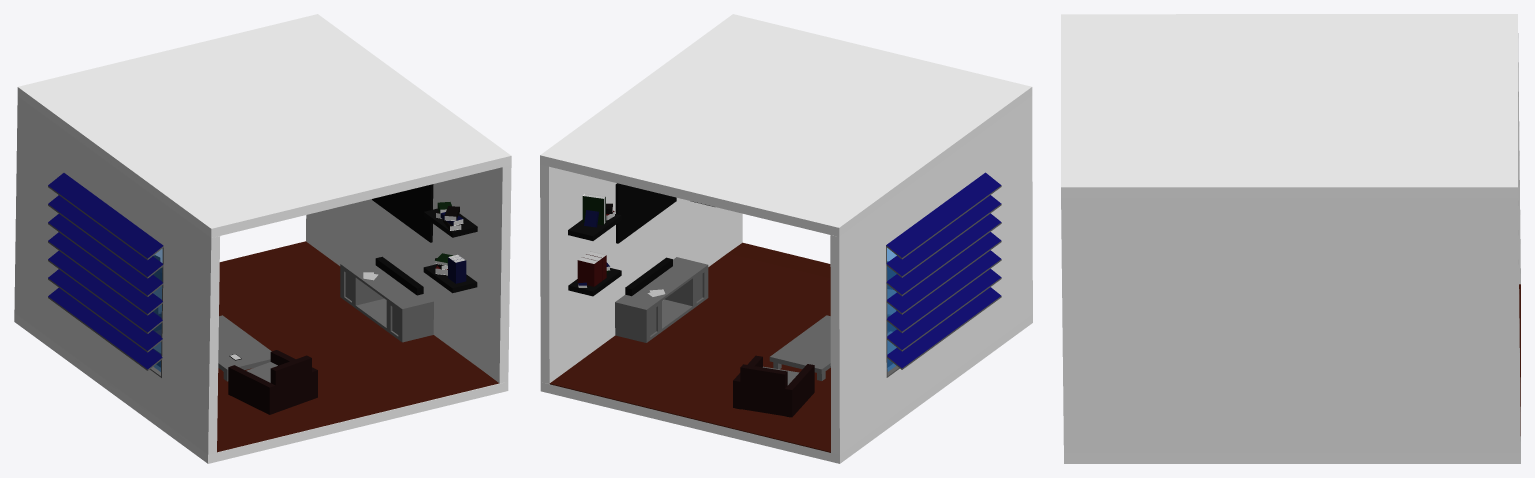
The model's file is pv louvers.glb.
The picture shows the model from 3 angles, left to right: view 1: azimuth 30°, elevation 25°; view 2: azimuth 150°, elevation 25°; view 3: azimuth 270°, elevation 25°; orthographic projection. The views are drawn at different scales.
Visible parts, largest first — view 1: object 194, Cube (×16), object 195, object 197, object 196; view 2: object 194, Cube (×17), object 195, object 197, object 196, object 192; view 3: object 197, object 194, object 196.
Part boxes in pixels (x1=…): object 194: x1=17, y1=14, x2=511, y2=237; Cube (×16): x1=48, y1=173, x2=498, y2=452; object 195: x1=14, y1=96, x2=220, y2=454; object 197: x1=306, y1=165, x2=511, y2=383; object 196: x1=14, y1=313, x2=508, y2=463; object 194: x1=540, y1=14, x2=1032, y2=236; Cube (×17): x1=549, y1=172, x2=1001, y2=452; object 195: x1=830, y1=96, x2=1032, y2=454; object 197: x1=540, y1=164, x2=742, y2=383; object 196: x1=540, y1=314, x2=1032, y2=463; object 192: x1=887, y1=248, x2=896, y2=371; object 197: x1=1061, y1=198, x2=1520, y2=452; object 194: x1=1061, y1=14, x2=1517, y2=197; object 196: x1=1064, y1=453, x2=1520, y2=463.
Bounding box in the file's own units: 17.93 × 12.77 × 19.12.
